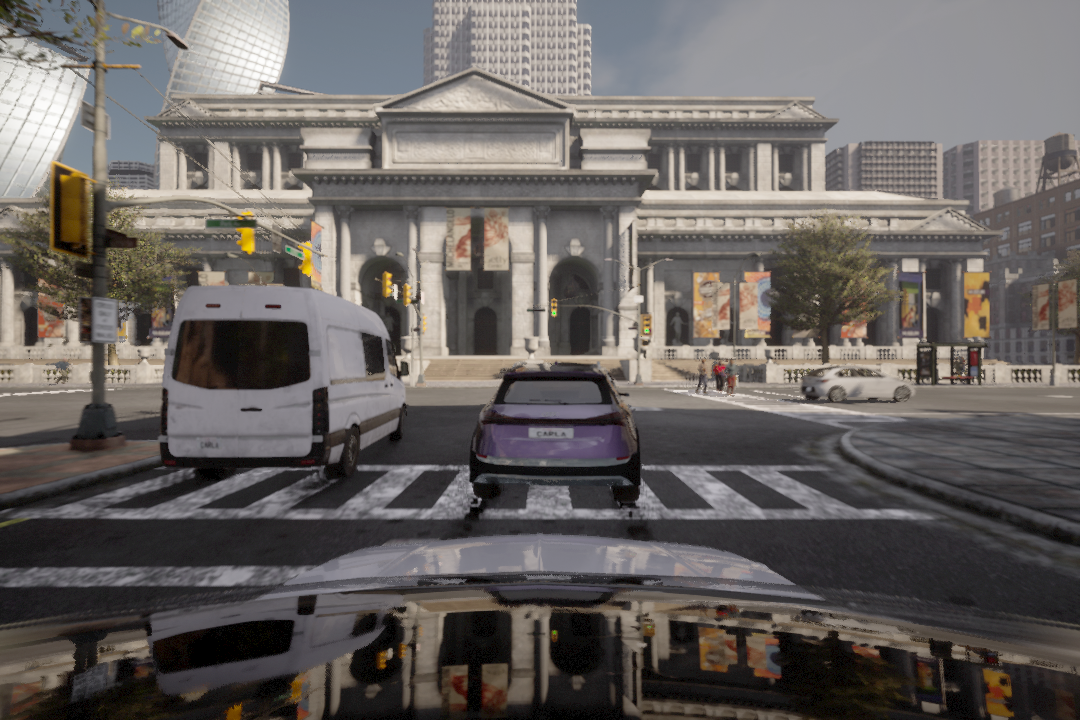TrafficLight: (380, 271, 396, 301), (640, 315, 654, 339), (548, 296, 560, 321)
walkside: (2, 454, 955, 525)
